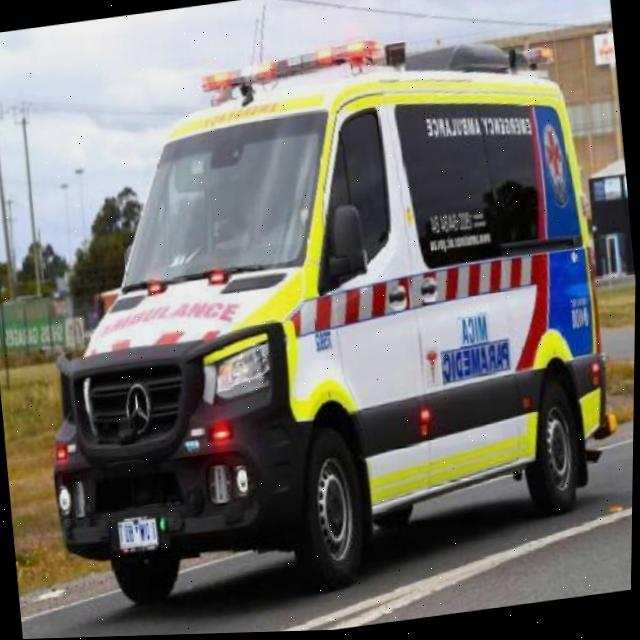emergency: (11, 11, 637, 626)
